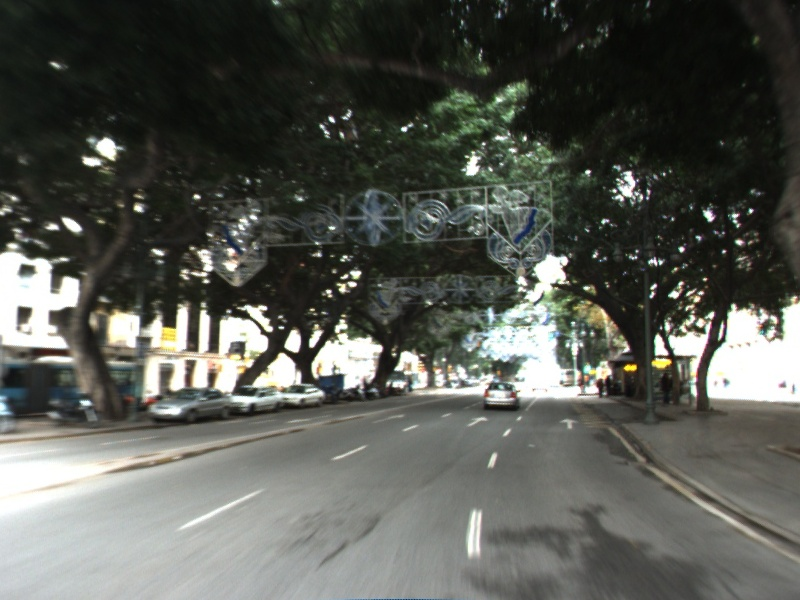STRAIGHT: (370, 411, 408, 425), (464, 414, 491, 429), (557, 416, 582, 431)
